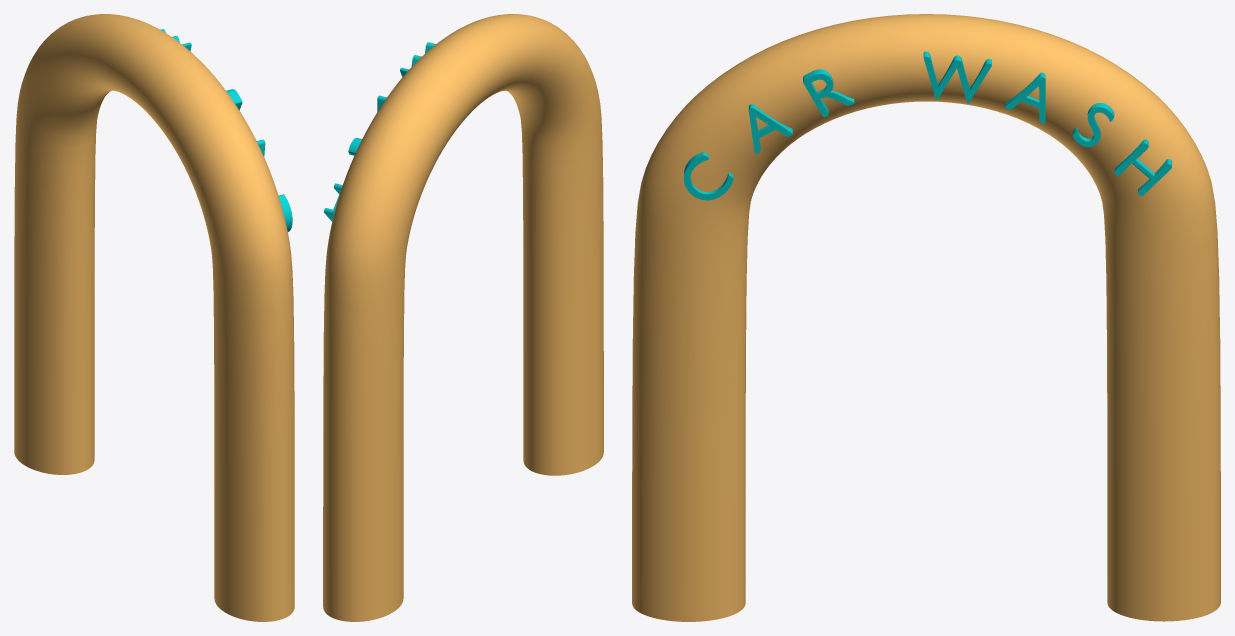
The model's file is car_wash.fbx.
3 views of the same model, side by side, from view 1: azimuth 30°, elevation 25°; view 2: azimuth 150°, elevation 25°; view 3: azimuth 270°, elevation 25° (orthographic). The views are drawn at different scales.
Parts seen in each view (by area): view 1: Car Wash; view 2: Car Wash; view 3: Car Wash.
Boxes of the visible parts, x1,y1,x2,y2 form: Car Wash: (14,14,294,621); Car Wash: (323,14,603,621); Car Wash: (632,14,1220,621).
Size of the model in its own units: 75.24 by 519 by 473.
Materials: 1 (1 with a texture image).
